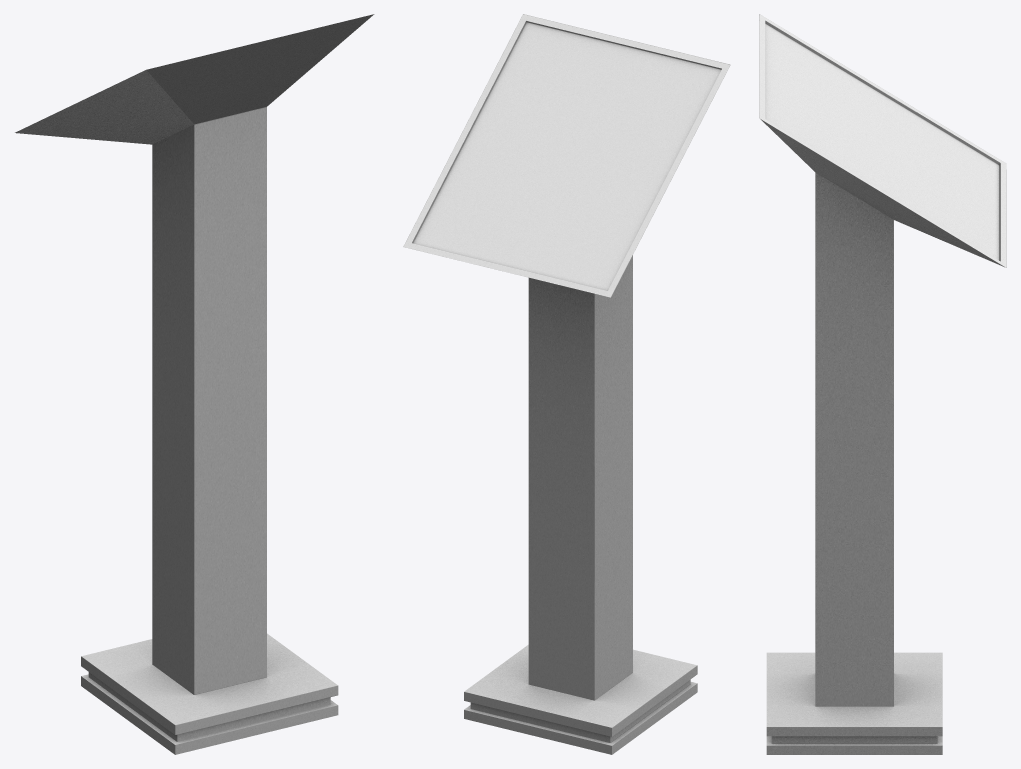
Rendered from TPTablet.fbx.
3 views of the same model, side by side, from view 1: azimuth 30°, elevation 25°; view 2: azimuth 150°, elevation 25°; view 3: azimuth 270°, elevation 25° (orthographic). The views are drawn at different scales.
Parts seen in each view (by area): view 1: TPTablet; view 2: TPTablet; view 3: TPTablet.
Boxes of the visible parts, x1,y1,x2,y2 form: TPTablet: (15,14,374,754); TPTablet: (403,14,730,754); TPTablet: (759,14,1006,754).
Size of the model in its own units: 3845 by 3845 by 11189.
